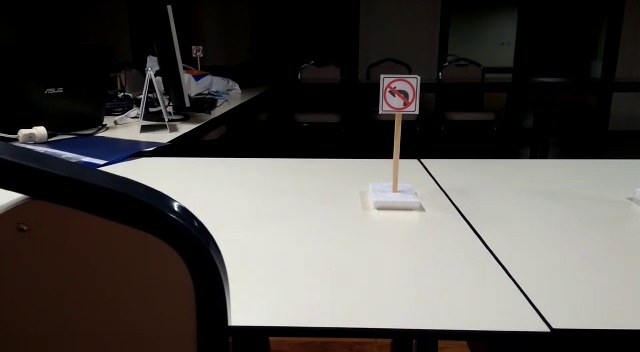sola_donulmez: (377, 69, 421, 116)
